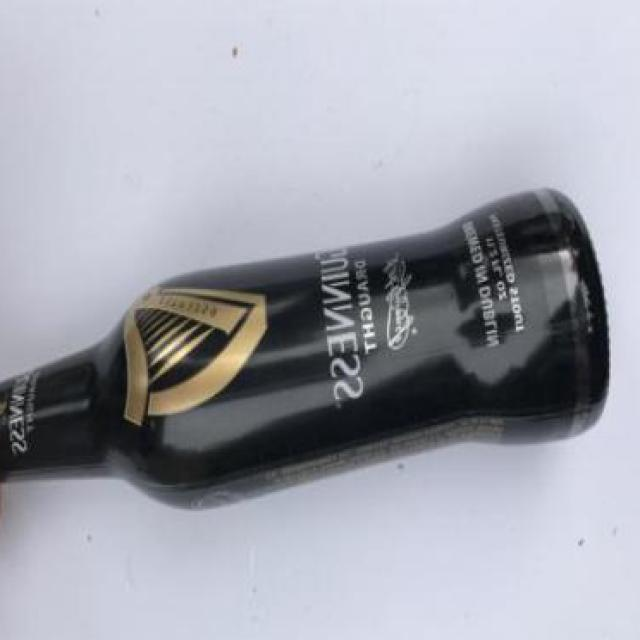kaca: (0, 188, 611, 510)
